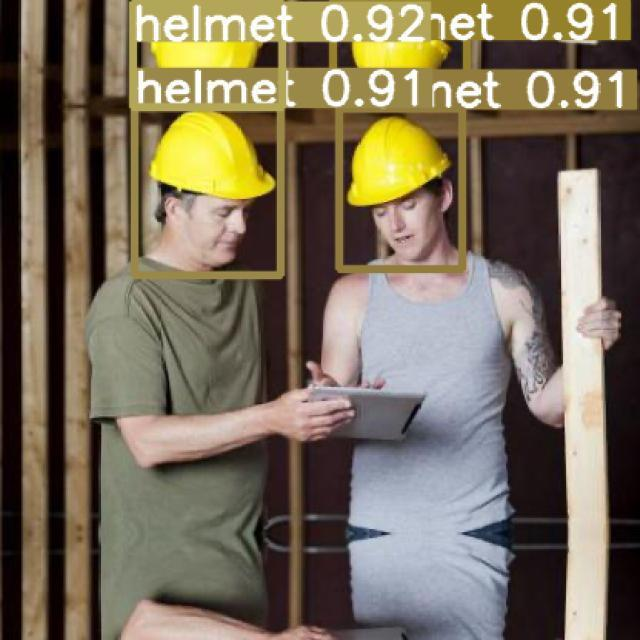yellow helmet: (143, 110, 278, 207), (345, 110, 456, 214)
